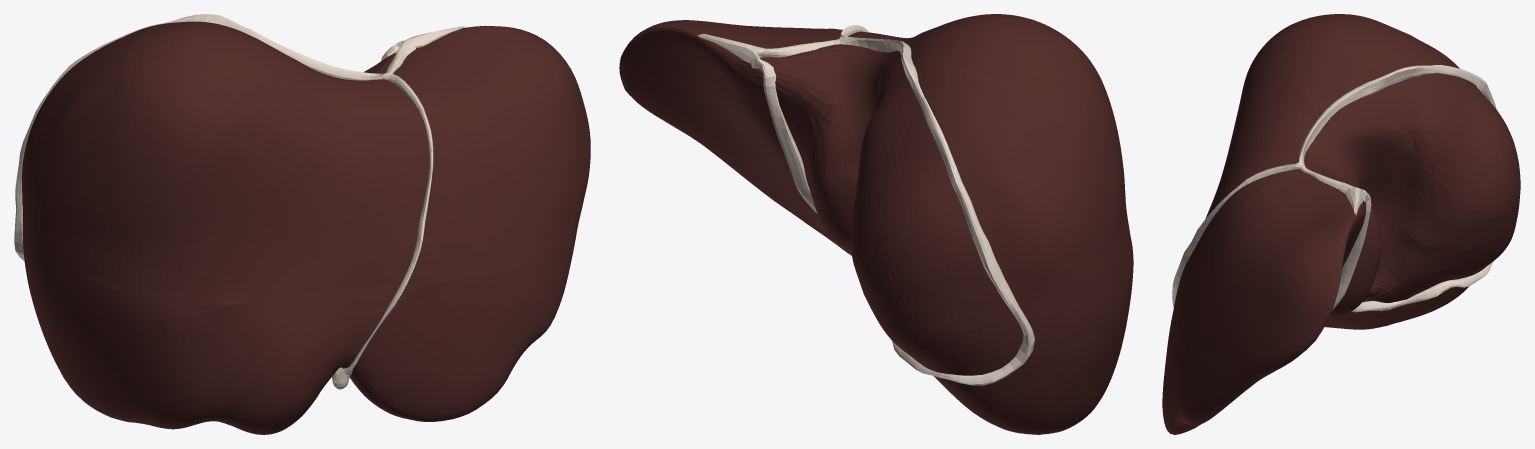
The model's file is VH_F_Liver_0.8.glb.
3 views of the same model, side by side, from view 1: azimuth 30°, elevation 25°; view 2: azimuth 150°, elevation 25°; view 3: azimuth 270°, elevation 25° (orthographic). The views are drawn at different scales.
Visible parts, largest first — view 1: VH_F_capsule_of_the_liver, VH_F_left_superomedial_segment1, VH_F_left_inferomedial_segment, VH_F_right_anterosuperior_segment, VH_F_right_anteroinferior_segment, VH_F_coronary_ligament_of_liver, VH_F_left_superomedial_segment, VH_F_falciform_ligament, VH_F_left_anterolateral_segment; view 2: VH_F_capsule_of_the_liver, VH_F_bare_area_of_liver, VH_F_left_superomedial_segment, VH_F_coronary_ligament_of_liver, VH_F_diaphragmatic_surface_of_liver, VH_F_caudate_lobe, VH_F_right_posterosuperior_segment, VH_F_ligamentum_venosum, VH_F_gastric_impression_of_liver, VH_F_left_anterolateral_segment, VH_F_right_posteroinferior_segment, VH_F_right_anterosuperior_segment (+3 smaller); view 3: VH_F_capsule_of_the_liver, VH_F_bare_area_of_liver, VH_F_caudate_lobe, VH_F_coronary_ligament_of_liver, VH_F_left_superomedial_segment1, VH_F_right_posterosuperior_segment, VH_F_diaphragmatic_surface_of_liver, VH_F_left_superomedial_segment, VH_F_falciform_ligament, VH_F_ligamentum_venosum, VH_F_right_posteroinferior_segment, VH_F_suprarenal_impression_of_liver (+2 smaller).
Boxes of the visible parts, x1,y1,x2,y2 form: VH_F_capsule_of_the_liver: [22, 21, 590, 434]; VH_F_left_superomedial_segment1: [222, 55, 433, 305]; VH_F_left_inferomedial_segment: [208, 284, 398, 433]; VH_F_right_anterosuperior_segment: [38, 23, 278, 305]; VH_F_right_anteroinferior_segment: [39, 264, 223, 426]; VH_F_coronary_ligament_of_liver: [14, 14, 413, 261]; VH_F_left_superomedial_segment: [380, 29, 581, 284]; VH_F_falciform_ligament: [344, 73, 433, 375]; VH_F_left_anterolateral_segment: [342, 226, 577, 419]; VH_F_capsule_of_the_liver: [619, 14, 1133, 434]; VH_F_bare_area_of_liver: [749, 47, 1023, 375]; VH_F_left_superomedial_segment: [622, 22, 840, 177]; VH_F_coronary_ligament_of_liver: [767, 36, 1034, 385]; VH_F_diaphragmatic_surface_of_liver: [619, 30, 996, 425]; VH_F_caudate_lobe: [778, 47, 899, 250]; VH_F_right_posterosuperior_segment: [851, 61, 1101, 331]; VH_F_ligamentum_venosum: [751, 53, 817, 213]; VH_F_gastric_impression_of_liver: [668, 70, 851, 255]; VH_F_left_anterolateral_segment: [716, 151, 829, 234]; VH_F_right_posteroinferior_segment: [866, 299, 1101, 434]; VH_F_right_anterosuperior_segment: [897, 29, 1132, 282]; VH_F_capsule_of_the_liver: [1162, 14, 1472, 434]; VH_F_bare_area_of_liver: [1306, 74, 1520, 298]; VH_F_caudate_lobe: [1305, 98, 1439, 315]; VH_F_coronary_ligament_of_liver: [1298, 65, 1496, 312]; VH_F_left_superomedial_segment1: [1198, 64, 1323, 241]; VH_F_right_posterosuperior_segment: [1393, 31, 1518, 244]; VH_F_diaphragmatic_surface_of_liver: [1170, 202, 1493, 433]; VH_F_left_superomedial_segment: [1176, 172, 1365, 381]; VH_F_falciform_ligament: [1172, 162, 1298, 307]; VH_F_ligamentum_venosum: [1331, 189, 1371, 311]; VH_F_right_posteroinferior_segment: [1386, 226, 1513, 325]; VH_F_suprarenal_impression_of_liver: [1399, 267, 1471, 289].
Size of the model in its own units: 0.2471 by 0.17 by 0.1663.
